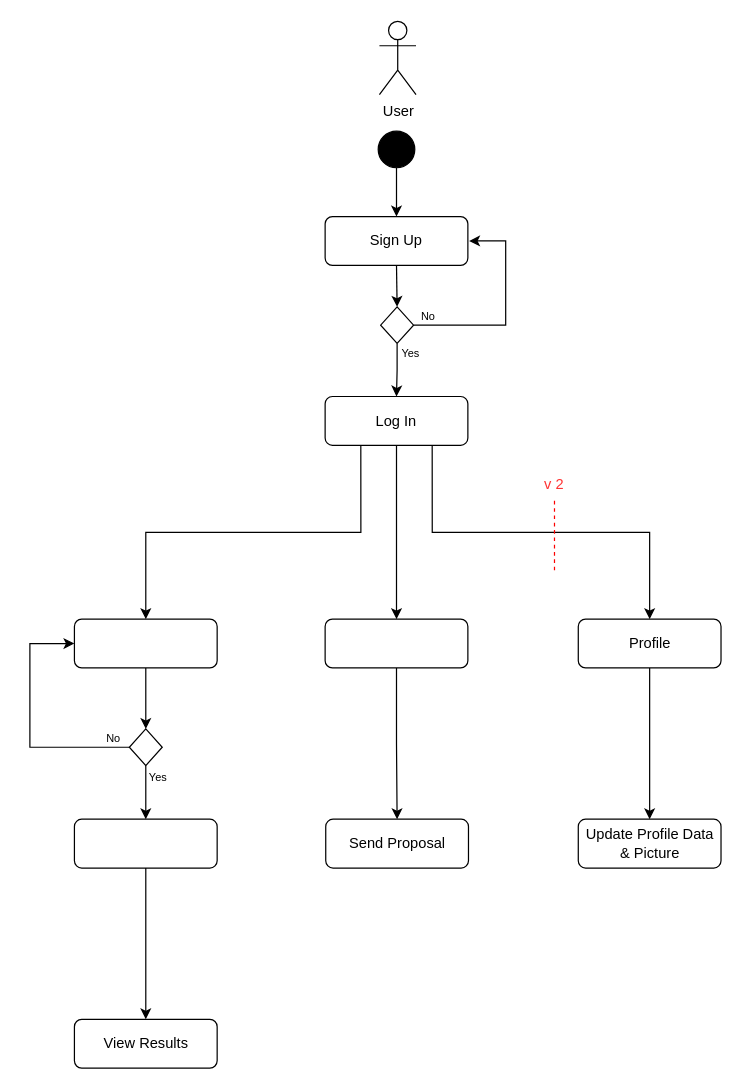
Some shapes in this 743 by 1089 pixel diagram are drawn without their labels. Here are the shapes that lost their labels. From the top down, the centre of each, then its label:
pixel 145 643: View Polls
pixel 396 643: Propose New Poll
pixel 145 843: Vote on Poll
